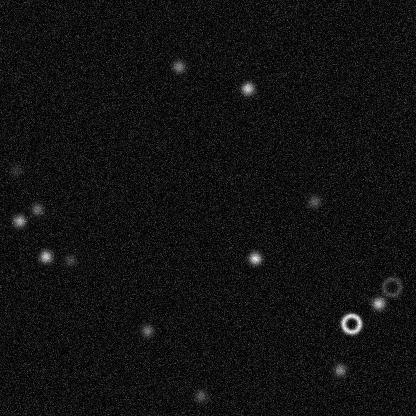Ring: (379, 274, 403, 298), (339, 311, 363, 335)
Spot: (29, 201, 45, 217), (306, 193, 322, 209), (239, 80, 255, 96), (62, 252, 78, 268), (11, 212, 27, 228), (170, 58, 186, 74), (192, 387, 208, 403), (139, 322, 155, 338), (7, 162, 23, 178), (370, 295, 386, 311), (331, 361, 347, 377), (246, 250, 262, 266), (37, 248, 53, 264)
